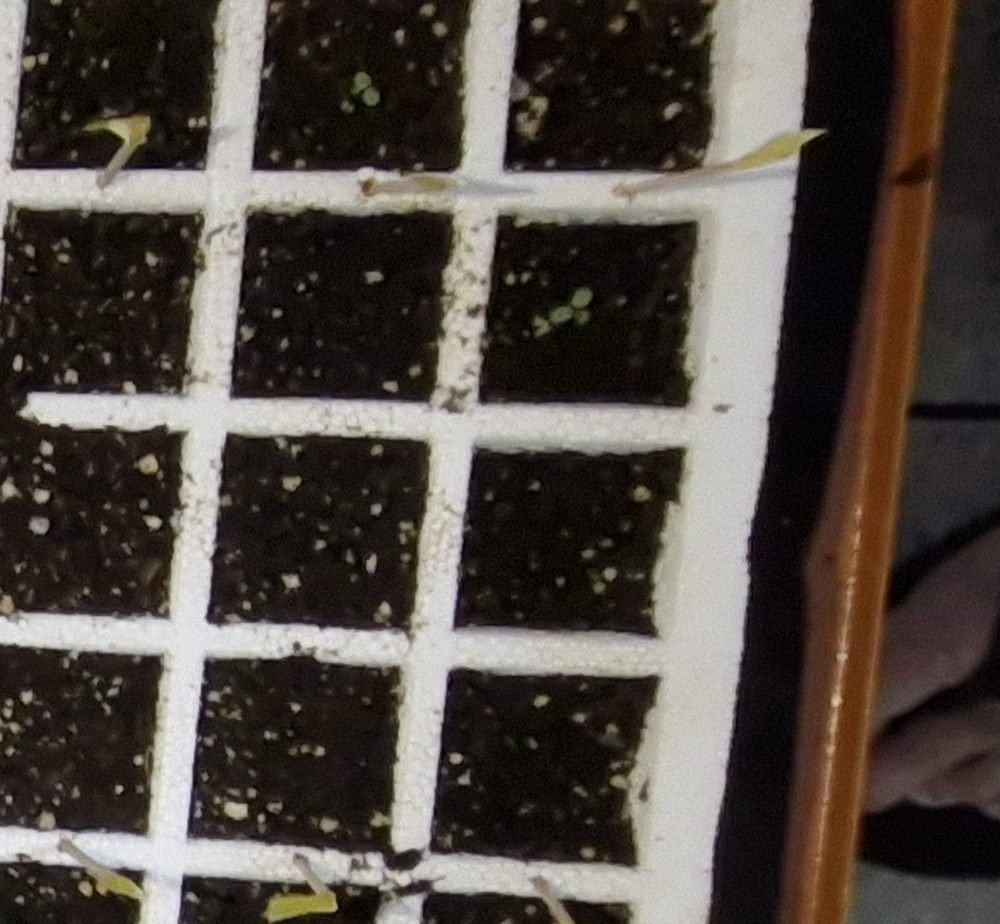Folha: (572, 287, 593, 308), (552, 305, 574, 323), (364, 87, 381, 105), (356, 72, 373, 89), (575, 310, 590, 326)
Germinacao: (551, 288, 592, 326), (353, 73, 382, 105)
